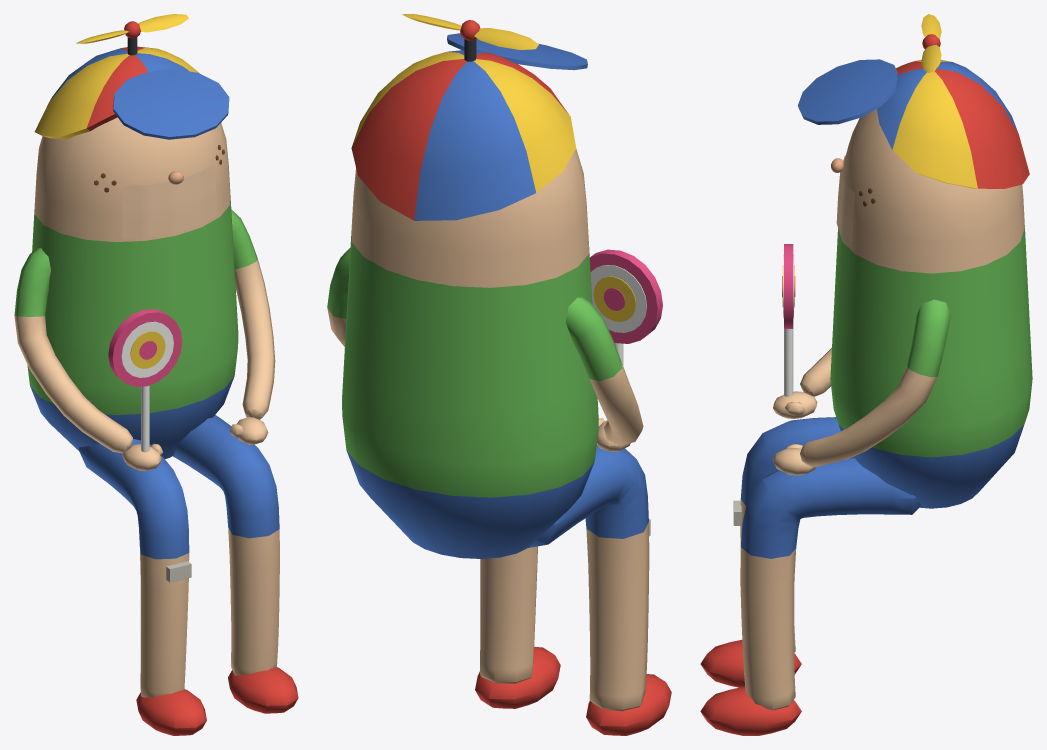
Rendered from VivoNino.fbx.
3 renders of one model, left to right at view 1: azimuth 30°, elevation 25°; view 2: azimuth 150°, elevation 25°; view 3: azimuth 270°, elevation 25°, orthographic. The views are drawn at different scales.
Parts seen in each view (by area): view 1: Cuerpo, PiernaIzq, PiernaDer, BrazoDer, BrazoIzq, Boca, Helice; view 2: Cuerpo, PiernaDer, BrazoDer, PiernaIzq, Helice, BrazoIzq; view 3: Cuerpo, PiernaIzq, BrazoIzq, PiernaDer, BrazoDer, Helice, Boca.
Part boxes in pixels (x1=…): Cuerpo: x1=27, y1=37, x2=238, y2=459; PiernaIzq: x1=173, y1=415, x2=298, y2=713; PiernaDer: x1=78, y1=439, x2=206, y2=735; BrazoDer: x1=14, y1=247, x2=182, y2=470; BrazoIzq: x1=229, y1=209, x2=275, y2=444; Boca: x1=122, y1=164, x2=217, y2=238; Helice: x1=76, y1=14, x2=188, y2=43; Cuerpo: x1=342, y1=33, x2=598, y2=558; PiernaDer: x1=528, y1=445, x2=671, y2=735; BrazoDer: x1=565, y1=249, x2=662, y2=451; PiernaIzq: x1=475, y1=546, x2=560, y2=708; Helice: x1=402, y1=14, x2=538, y2=49; BrazoIzq: x1=327, y1=247, x2=350, y2=346; Cuerpo: x1=798, y1=59, x2=1032, y2=508; PiernaIzq: x1=700, y1=457, x2=921, y2=735; BrazoIzq: x1=773, y1=299, x2=950, y2=475; PiernaDer: x1=700, y1=417, x2=852, y2=687; BrazoDer: x1=773, y1=244, x2=831, y2=418; Helice: x1=921, y1=14, x2=941, y2=72; Boca: x1=836, y1=155, x2=854, y2=247.
Bounding box in the file's own units: 1.56 × 3.89 × 1.74.
2 materials, 1 textured.
